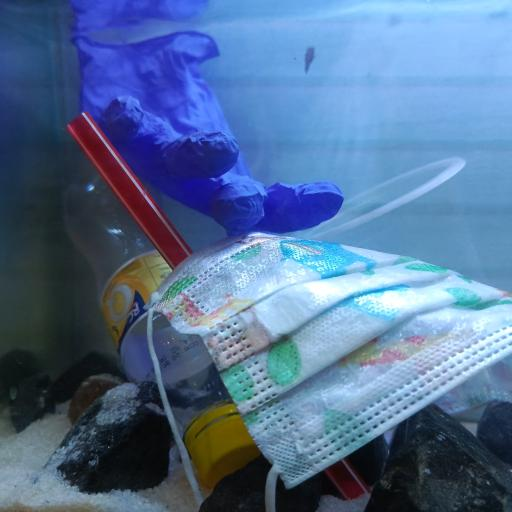bottle_cap: (190, 414, 264, 489)
glove: (69, 28, 344, 234)
mask: (148, 232, 512, 492)
plastic_bottle: (61, 168, 265, 489)
plastic_cup: (310, 156, 489, 285)
plastic_straw: (69, 111, 371, 499)
